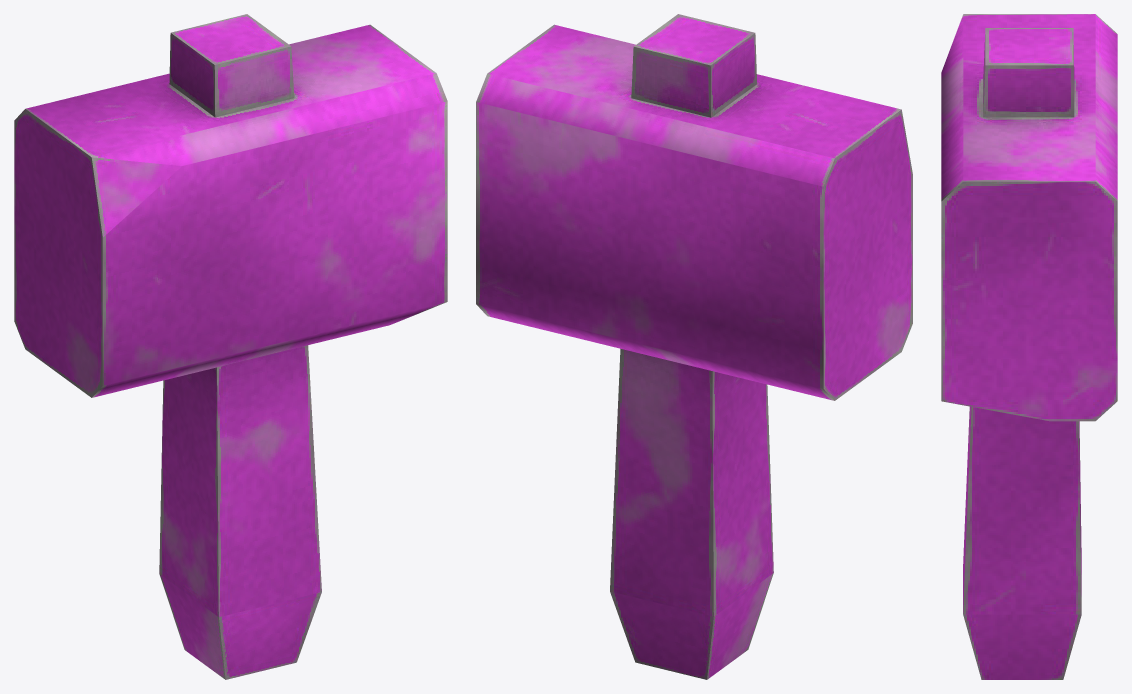
File: tool-hammer.glb
The picture shows the model from 3 angles, left to right: view 1: azimuth 30°, elevation 25°; view 2: azimuth 150°, elevation 25°; view 3: azimuth 270°, elevation 25°; orthographic projection.
Parts seen in each view (by area): view 1: tool-hammer; view 2: tool-hammer; view 3: tool-hammer.
Part boxes in pixels (x1,y1,x2,y2): tool-hammer: (14,14,447,679); tool-hammer: (476,14,912,679); tool-hammer: (941,14,1117,679).
Size of the model in its own units: 0.09 by 0.1535 by 0.04.
Materials: 1 (1 with a texture image).
